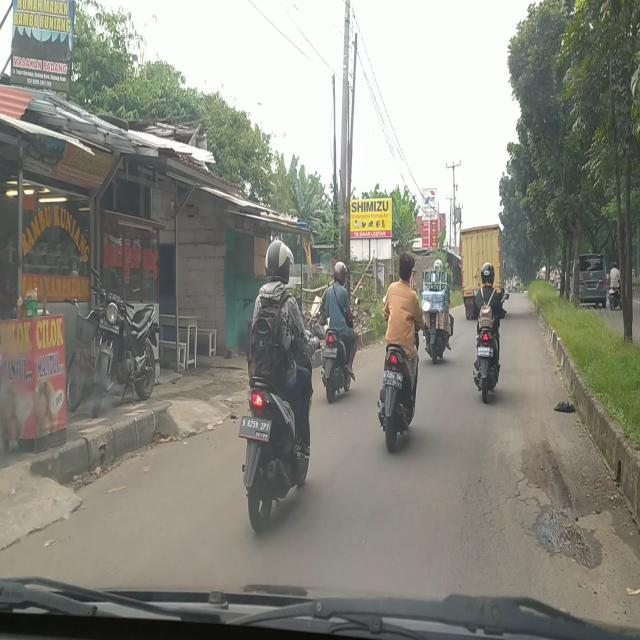Drain Hole: (468, 474, 542, 542)
